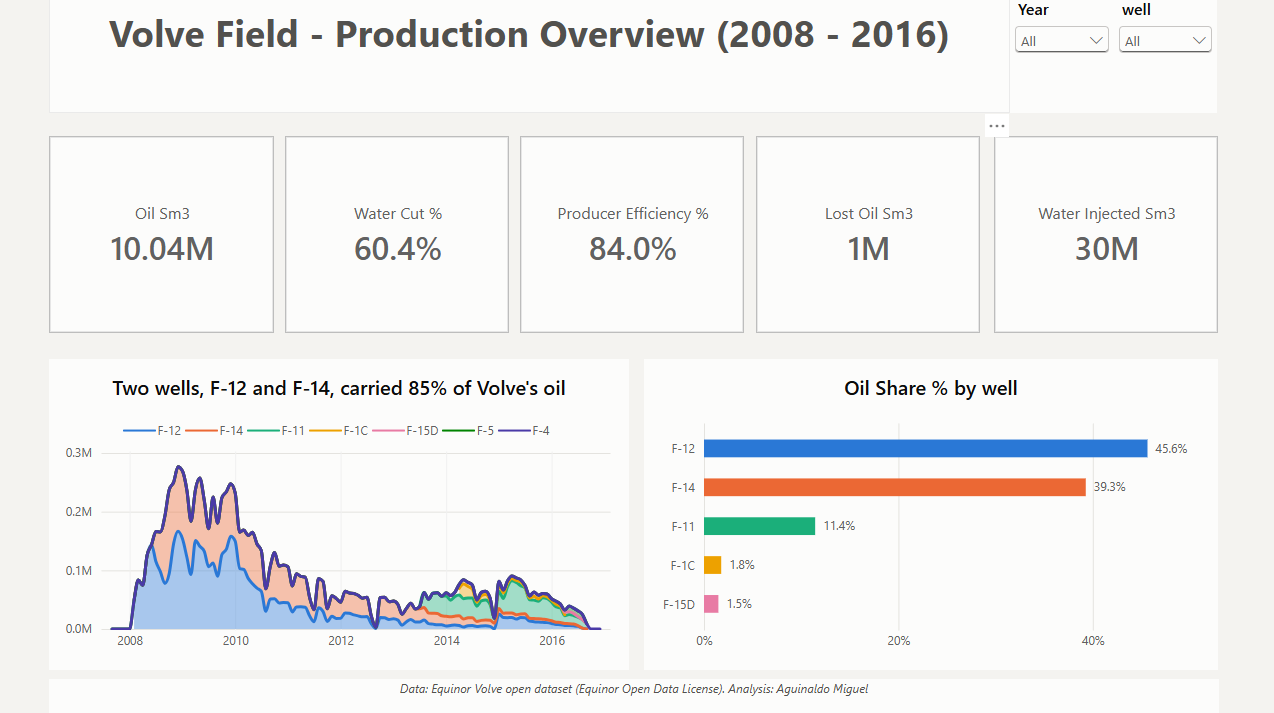

The dashboard page shown, as its layout file describes it:
{"tool":"powerbi","page":{"name":"Field overview","canvas":[1280,720],"ordinal":0},"visuals":[{"type":"cardVisual","fields":{"Data":["_Measures.Oil Sm3"]},"box":[51.4,137.8,224.1,197.4],"z":0},{"type":"cardVisual","fields":{"Data":["_Measures.Water Cut %"]},"box":[286.8,137.8,224.1,197.4],"z":1000},{"type":"cardVisual","fields":{"Data":["_Measures.Producer Efficiency %"]},"box":[522.3,137.8,224.1,197.4],"z":2000},{"type":"cardVisual","fields":{"Data":["_Measures.Lost Oil Sm3"]},"box":[757.7,137.8,224.1,197.4],"z":3000},{"type":"cardVisual","fields":{"Data":["_Measures.Water Injected Sm3"]},"box":[996.2,137.8,224.1,197.4],"z":4000},{"type":"textbox","box":[51.4,0,960.3,115.1],"z":5000},{"type":"slicer","fields":{"Values":["dim_date.Year"]},"box":[1011.7,0,103.8,115.1],"z":6000},{"type":"slicer","fields":{"Values":["dim_well.well"]},"box":[1115.5,0,103.8,115.1],"z":7000},{"type":"stackedAreaChart","title":"Two wells, F-12 and F-14, carried 85% of Volve''s oil","fields":{"Category":["dim_date.Month Start"],"Y":["_Measures.Oil Sm3"],"Series":["dim_well.well"]},"box":[51.4,360.9,579.9,311.5],"z":8000},{"type":"barChart","fields":{"Category":["dim_well.well"],"Y":["_Measures.Oil Share %"]},"box":[645.7,360.9,574.7,311.5],"z":9000},{"type":"textbox","box":[51.4,681,1169.6,39.4],"z":9001}]}

Visuals, with their boxes in screenshot pixels (x1, y1, x2, y2), scaled from the page's 1280x720 canvas onto the 1274x713 screenshot:
cardVisual - _Measures.Oil Sm3: [51,136,274,332]
cardVisual - _Measures.Water Cut %: [285,136,509,332]
cardVisual - _Measures.Producer Efficiency %: [520,136,743,332]
cardVisual - _Measures.Lost Oil Sm3: [754,136,977,332]
cardVisual - _Measures.Water Injected Sm3: [992,136,1215,332]
textbox: [51,0,1007,114]
slicer - dim_date.Year: [1007,0,1110,114]
slicer - dim_well.well: [1110,0,1214,114]
"Two wells, F-12 and F-14, carried 85% of Volve''s oil" stackedAreaChart: [51,357,628,666]
barChart - dim_well.well x _Measures.Oil Share %: [643,357,1215,666]
textbox: [51,674,1215,712]
